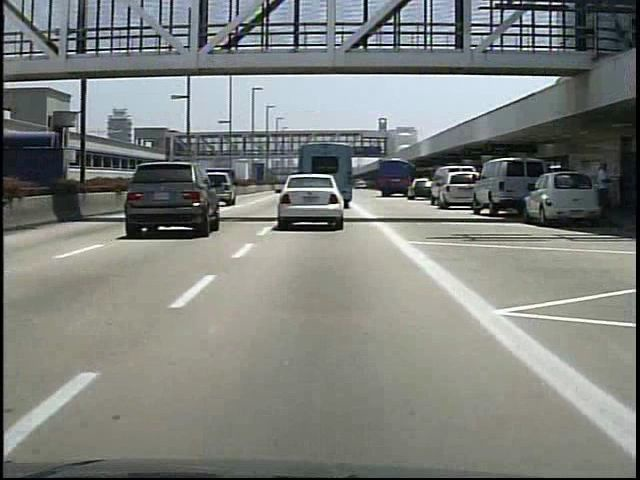person: (594, 154, 621, 230)
